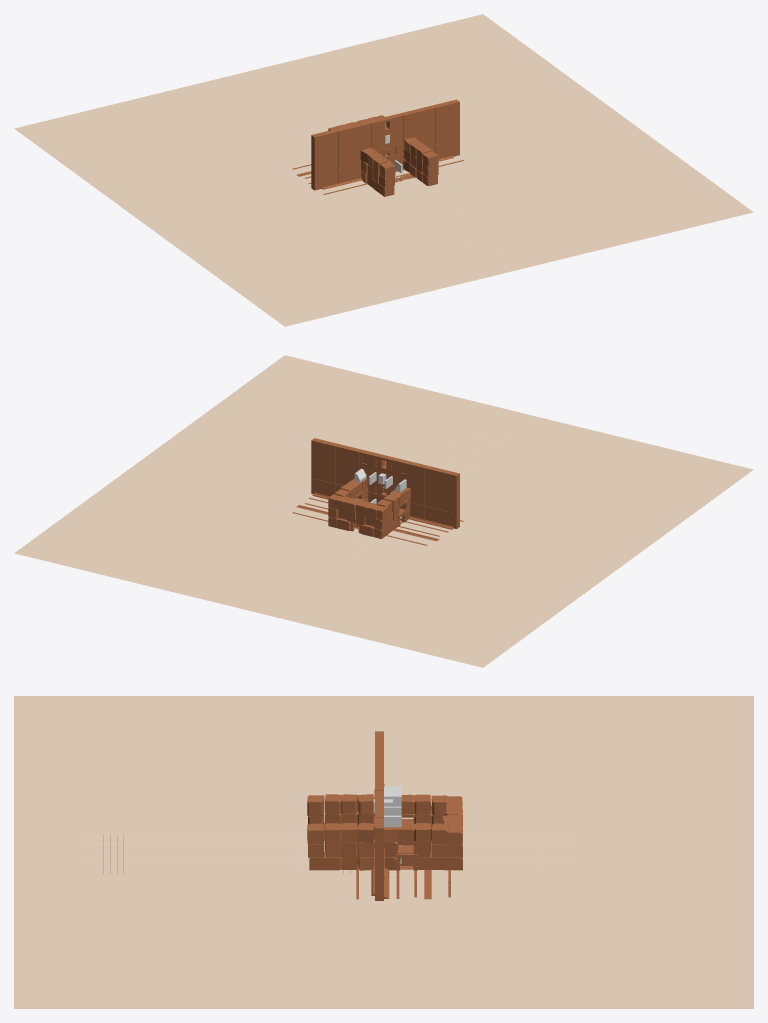
The model's file is 3olan.fbx.
3 views of the same model, one above another, from view 1: azimuth 30°, elevation 25°; view 2: azimuth 150°, elevation 25°; view 3: azimuth 270°, elevation 25° (orthographic). The views are drawn at different scales.
Visible parts, largest first — view 1: Plane, Cube.061, Cube.059, Cube.006; view 2: Plane, Cube.061, Cube.059, Cube.006; view 3: Plane, Cube.061, Cube.059, Cube.060, Cube.115, Cube.079, Cube.035, Cube.099, Cube.058, Cube.100, Cube.033.
Part boxes in pixels (box(x1,y1,x2,y2)): Plane: box(14, 14, 753, 326); Cube.061: box(287, 111, 528, 258); Cube.059: box(311, 99, 459, 163); Cube.006: box(311, 128, 459, 190); Plane: box(14, 355, 753, 667); Cube.061: box(281, 421, 522, 569); Cube.059: box(311, 438, 459, 502); Cube.006: box(311, 467, 459, 528); Plane: box(14, 696, 753, 1008); Cube.061: box(77, 834, 576, 873); Cube.059: box(375, 731, 383, 864); Cube.060: box(373, 786, 401, 827); Cube.115: box(307, 795, 324, 844); Cube.079: box(431, 795, 448, 844); Cube.035: box(414, 794, 430, 842); Cube.099: box(357, 794, 374, 842); Cube.058: box(341, 794, 357, 842); Cube.100: box(325, 794, 341, 842); Cube.033: box(398, 794, 414, 842).
Size of the model in its own units: 39465 by 4634 by 39465.
